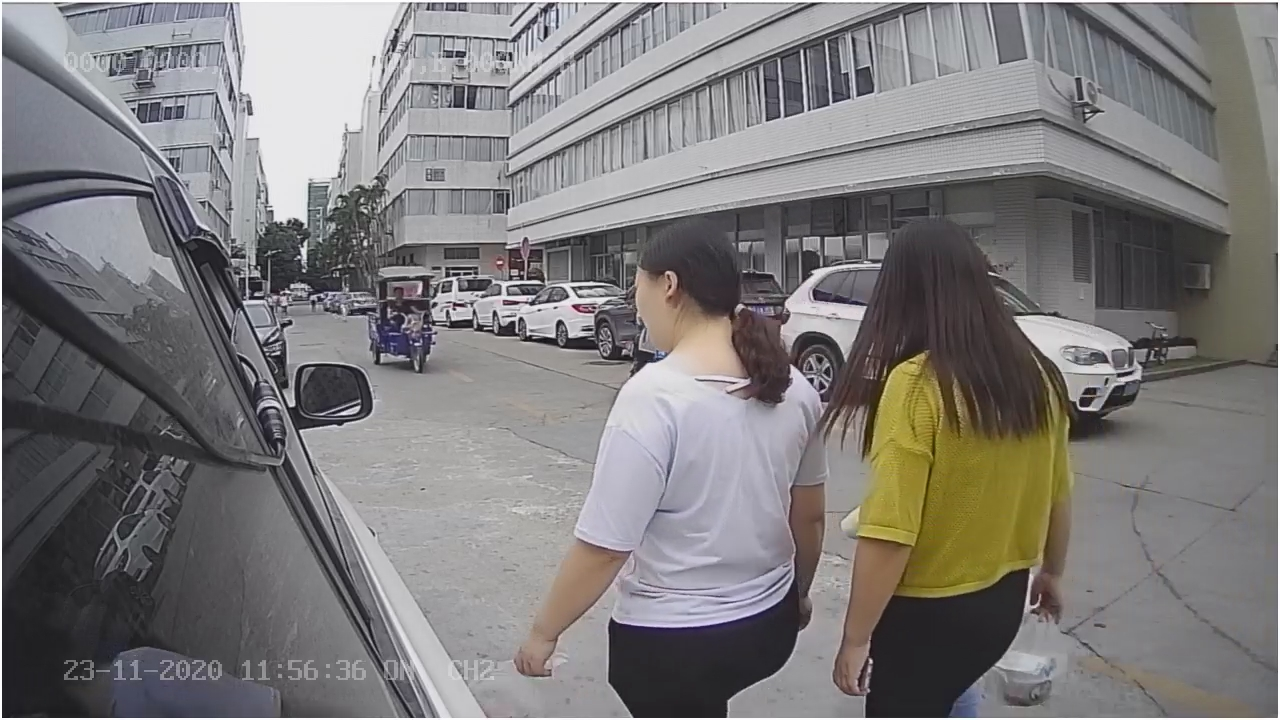person: (499, 213, 823, 720), (828, 217, 1091, 713)
